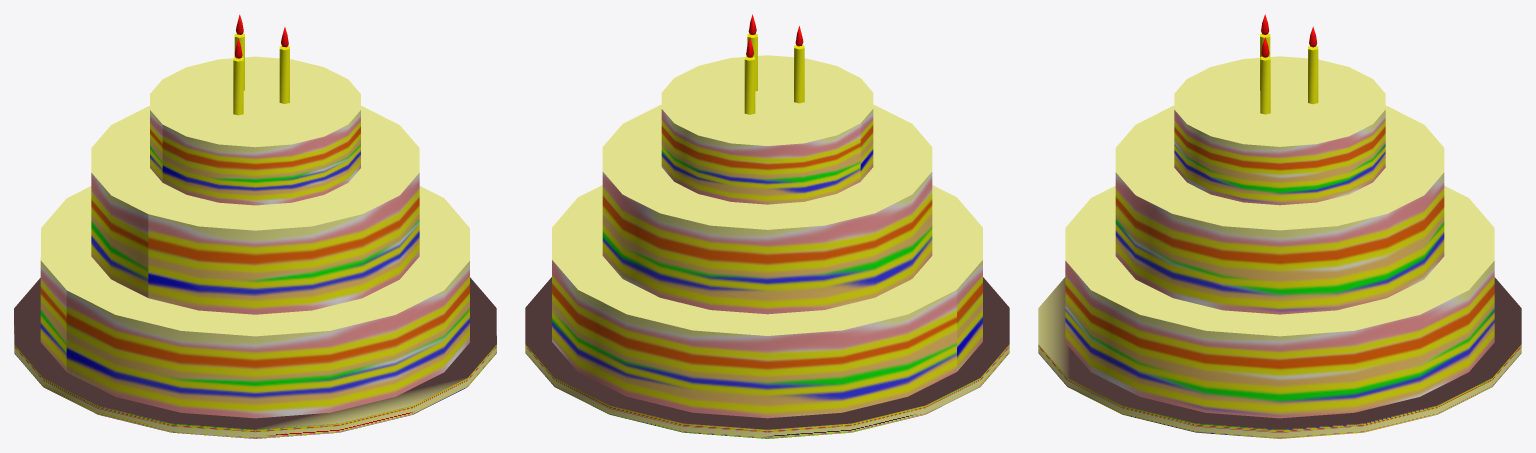
The model's file is roblox_-_hats_-_cake_hat.glb.
3 views of the same model, side by side, from view 1: azimuth 30°, elevation 25°; view 2: azimuth 150°, elevation 25°; view 3: azimuth 270°, elevation 25° (orthographic).
Visible parts, largest first — view 1: Object_2; view 2: Object_2; view 3: Object_2.
Part boxes in pixels (x1,y1,x2,y2): Object_2: (14,14,496,438); Object_2: (525,14,1009,438); Object_2: (1038,14,1521,438).
Size of the model in its own units: 2.41 by 1.68 by 2.37.
1 material, 1 textured.
